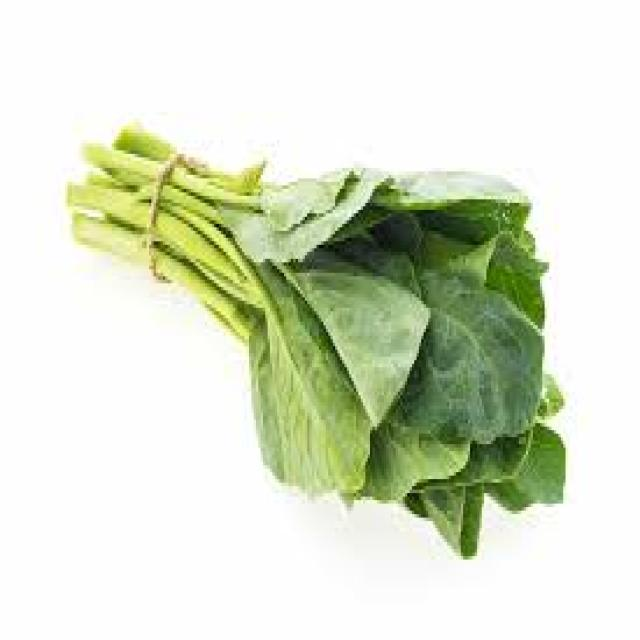collard: (65, 128, 567, 567)
